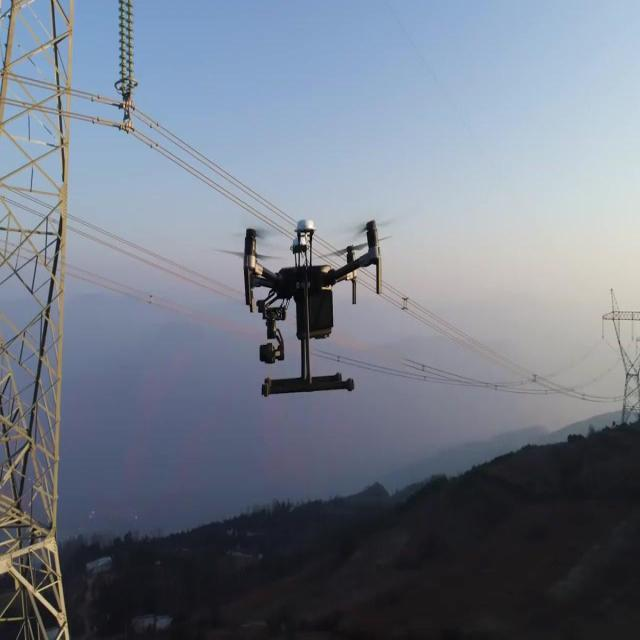drone: (241, 216, 385, 401)
